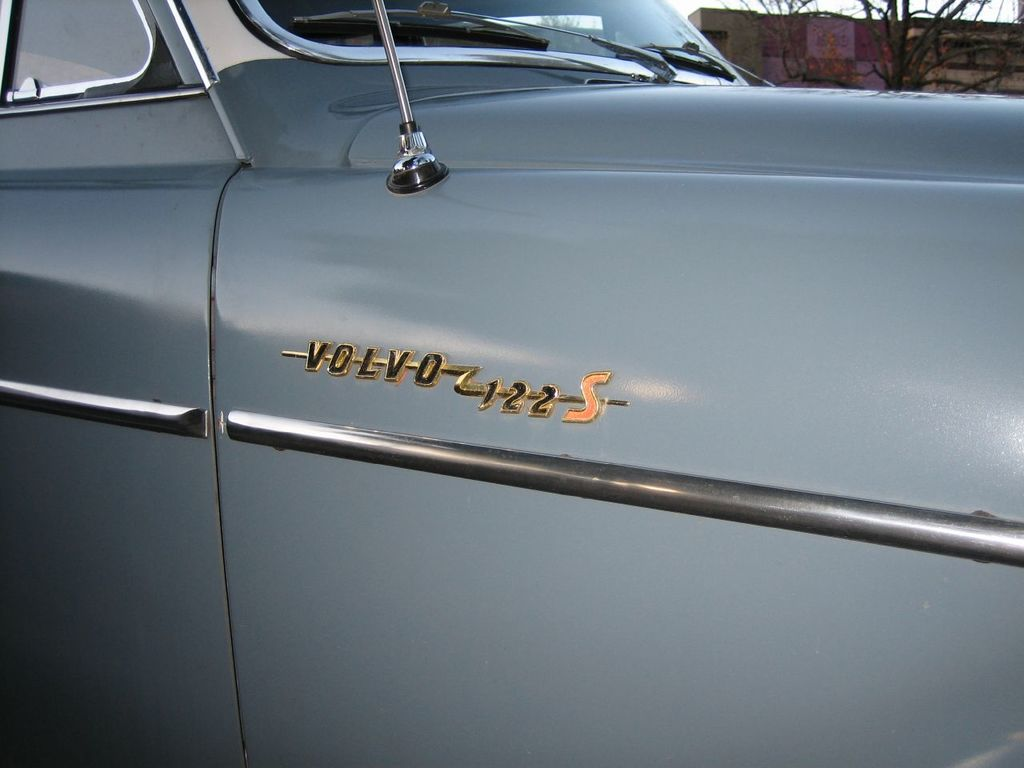Car: (0, 0, 1010, 711)
